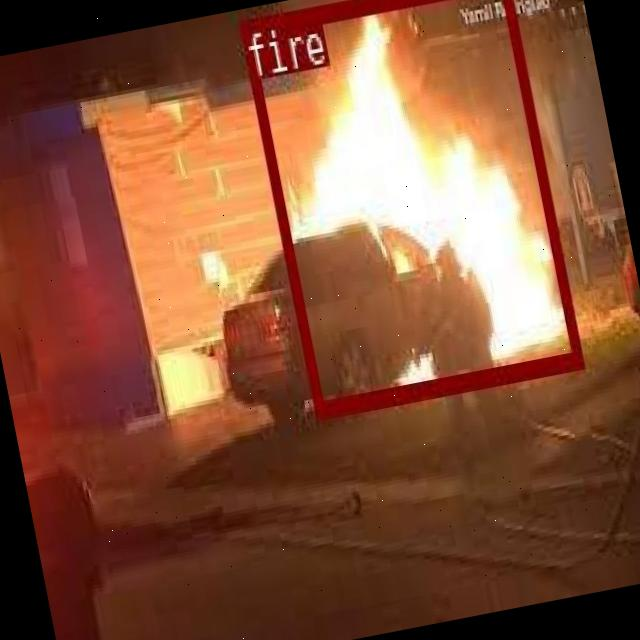fire: (237, 0, 580, 414)
